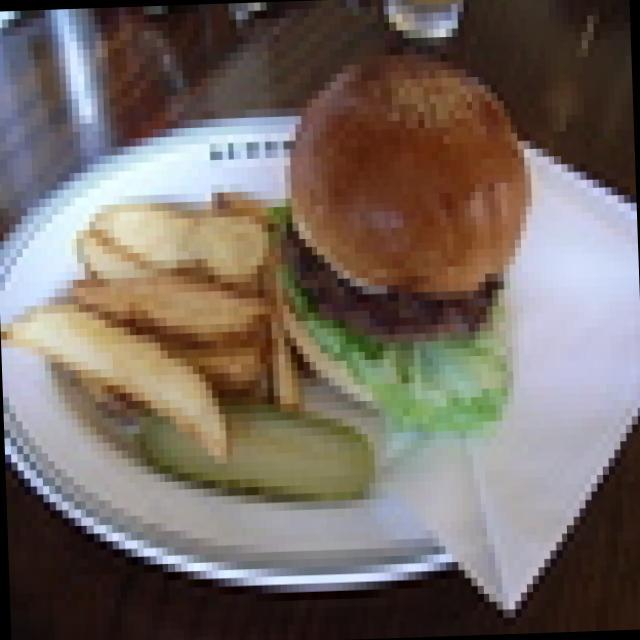Hamburger: (278, 49, 530, 422)
